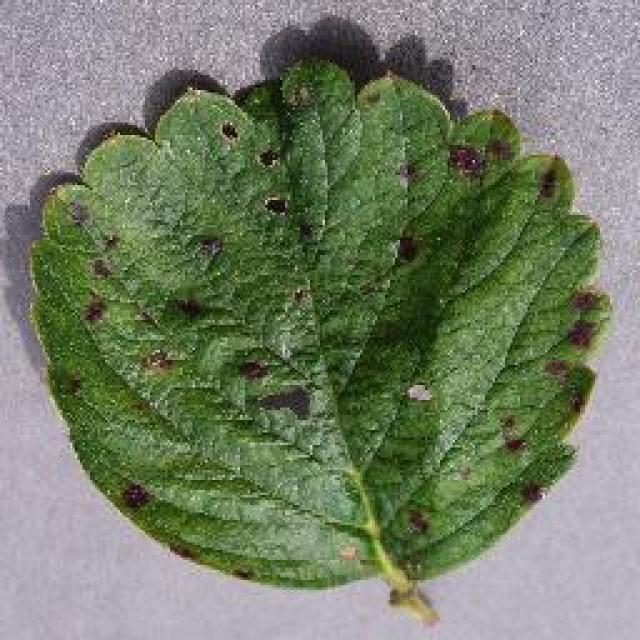Strawberry leaf scorch: (110, 94, 557, 514)
